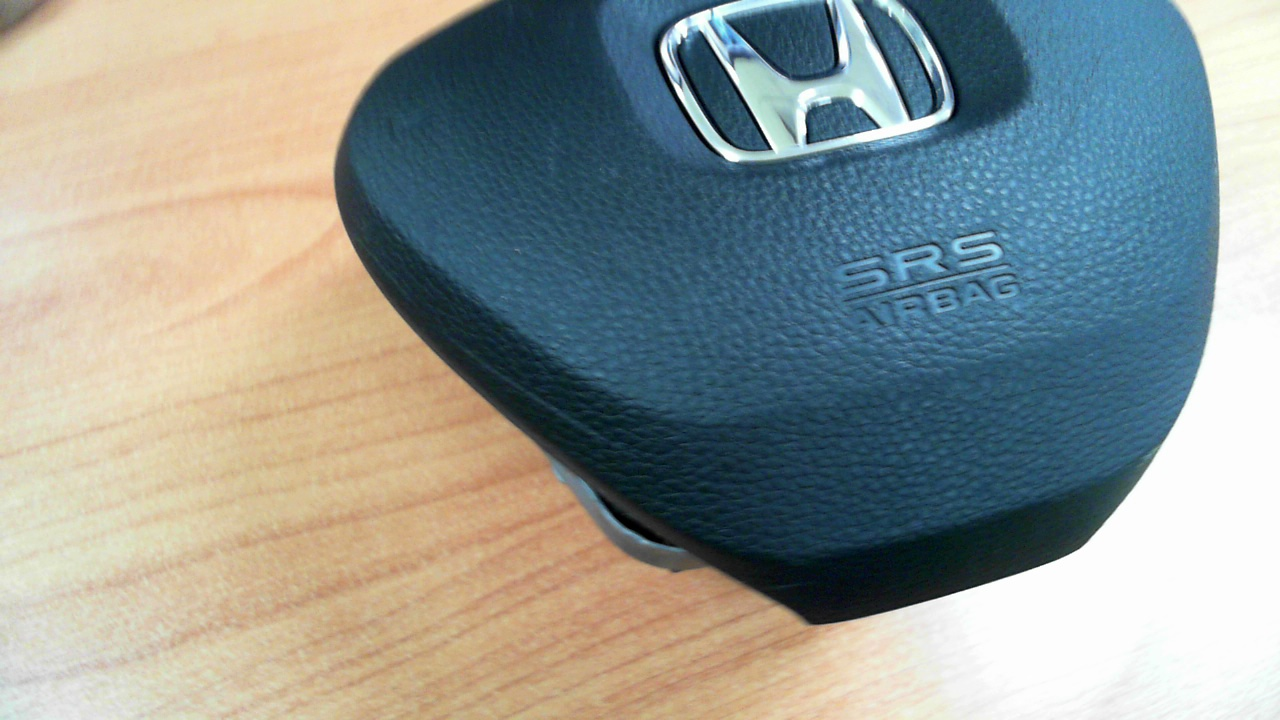Airbag: (333, 1, 1220, 626)
Honda: (654, 4, 954, 163)
